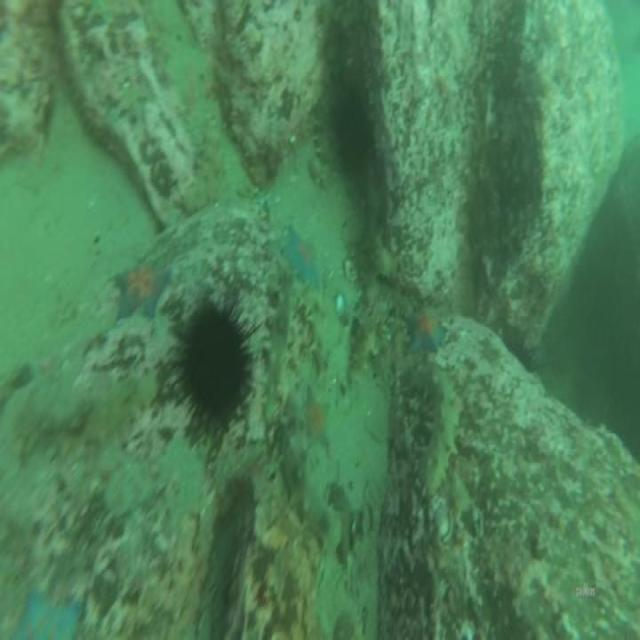echinus: (177, 296, 251, 436), (328, 79, 376, 175)
holothurian: (280, 427, 340, 556), (84, 370, 158, 441), (424, 364, 460, 499), (180, 115, 222, 214), (355, 228, 392, 308), (346, 318, 386, 390)
starfish: (11, 583, 87, 640), (112, 255, 172, 327), (280, 216, 324, 291), (297, 382, 333, 453), (404, 300, 447, 359)
